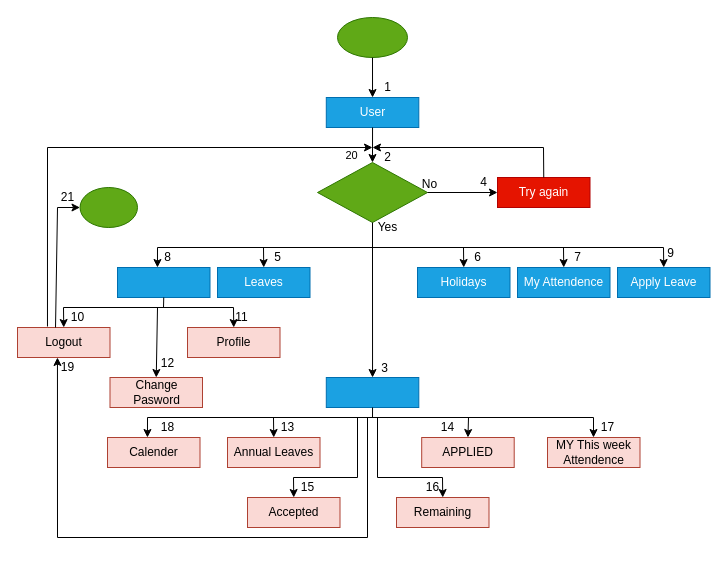
Image size: 728x563. Some labels were removed from this diagram. The shapes that lost their labels are listed below. From the top down, each one's box as (x1, y1, x2, y2) in pixels, then its label:
(336, 16, 408, 58): Start
(79, 186, 138, 228): End
(316, 162, 428, 222): Login with Valid Data
(116, 266, 210, 298): Profile Dropdown
(325, 376, 419, 408): Dashboard
